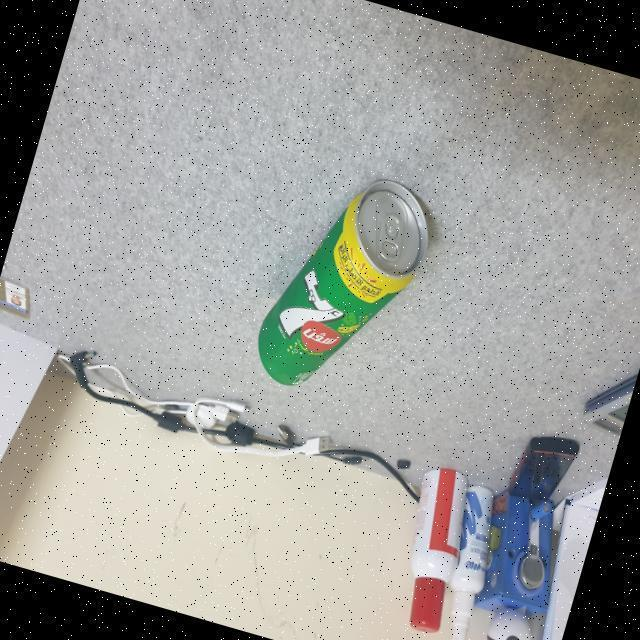can: (240, 154, 452, 423)
